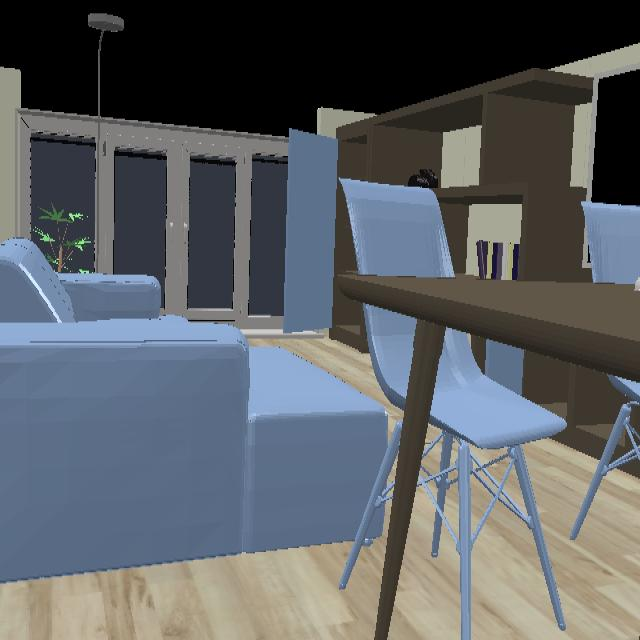book: (476, 240, 519, 281)
bookshelf: (330, 44, 640, 355), (481, 341, 626, 460)
chair: (430, 329, 567, 451), (341, 179, 455, 277), (363, 305, 417, 409), (581, 201, 640, 285)
sofa: (0, 260, 388, 584)
table: (336, 273, 640, 640), (336, 275, 640, 389)
